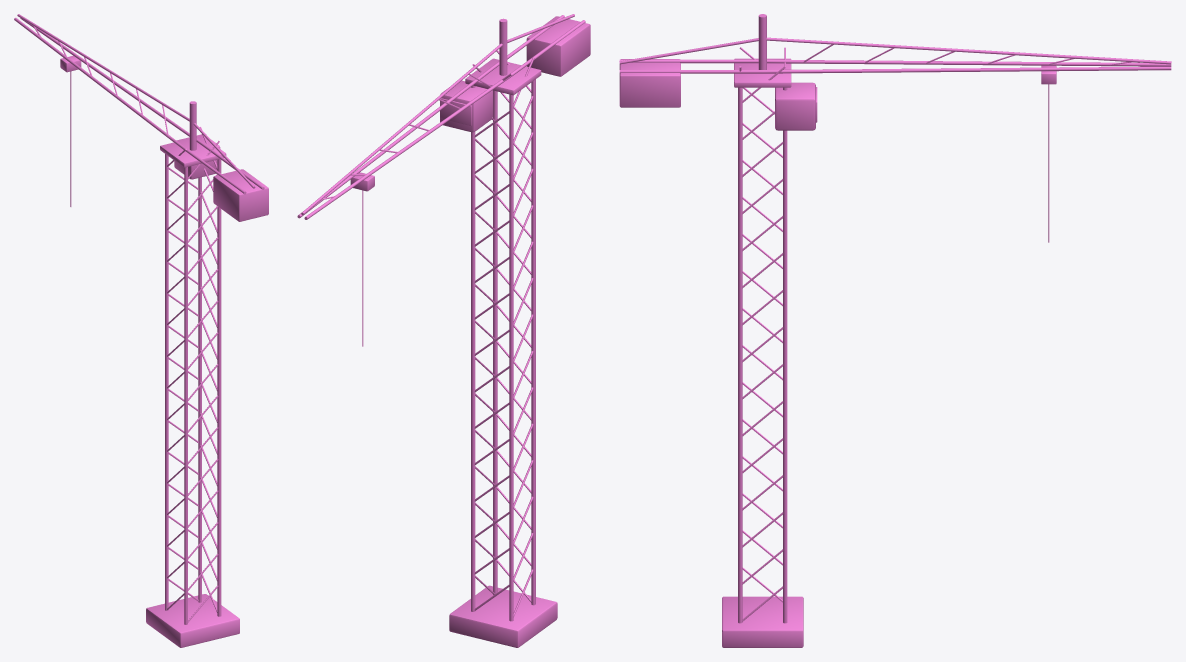
The model's file is Site_TowerCrane.fbx.
3 renders of one model, left to right at view 1: azimuth 30°, elevation 25°; view 2: azimuth 150°, elevation 25°; view 3: azimuth 270°, elevation 25°, orthographic. The views are drawn at different scales.
Parts seen in each view (by area): view 1: Crane; view 2: Crane; view 3: Crane.
Boxes of the visible parts, <box> form: Crane: <box>14,14,268,647</box>; Crane: <box>297,14,590,647</box>; Crane: <box>619,14,1171,647</box>.
Size of the model in its own units: 8.4 by 66.5 by 54.04.
Materials: 1 (1 with a texture image).
